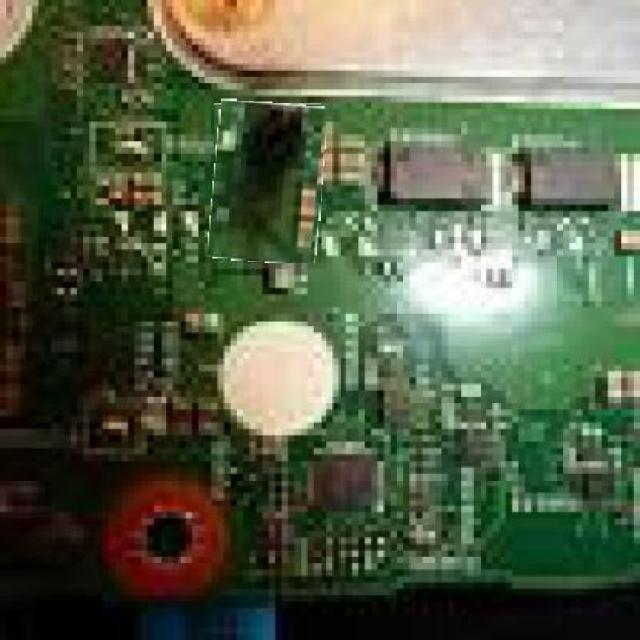Burn: (212, 101, 326, 264)
